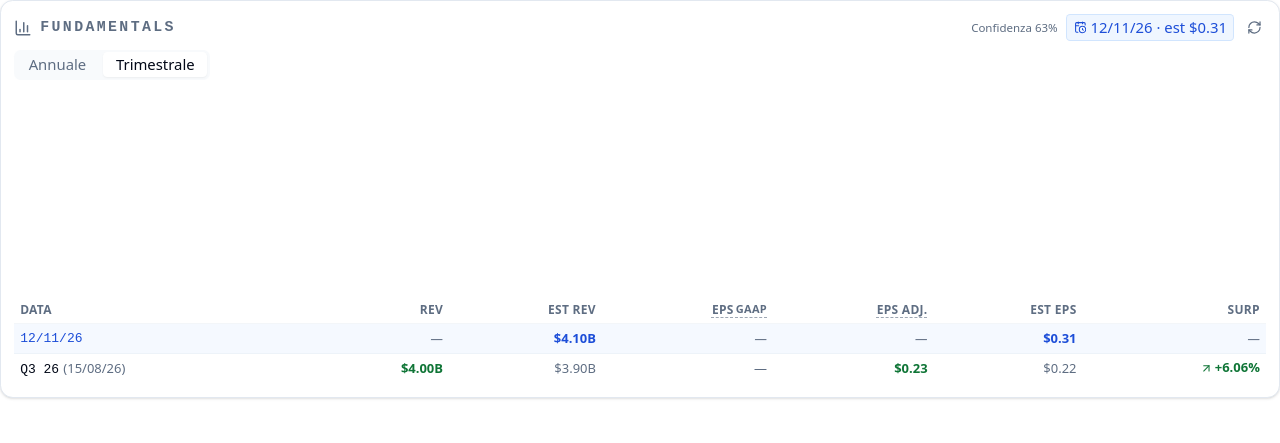
Scenario: FundamentalsCard — la valuta dei rendiconti › ricavi, utile, EPS di bilancio ed EPS del calendario: tutti in dollari
// Annuale: [FY, Rev, YoY, Net Inc, EPS GAAP, EPS adj., Est EPS, Surp].
Click the button "Annuale" at (57, 65), box left=16, top=52, right=99, bottom=77
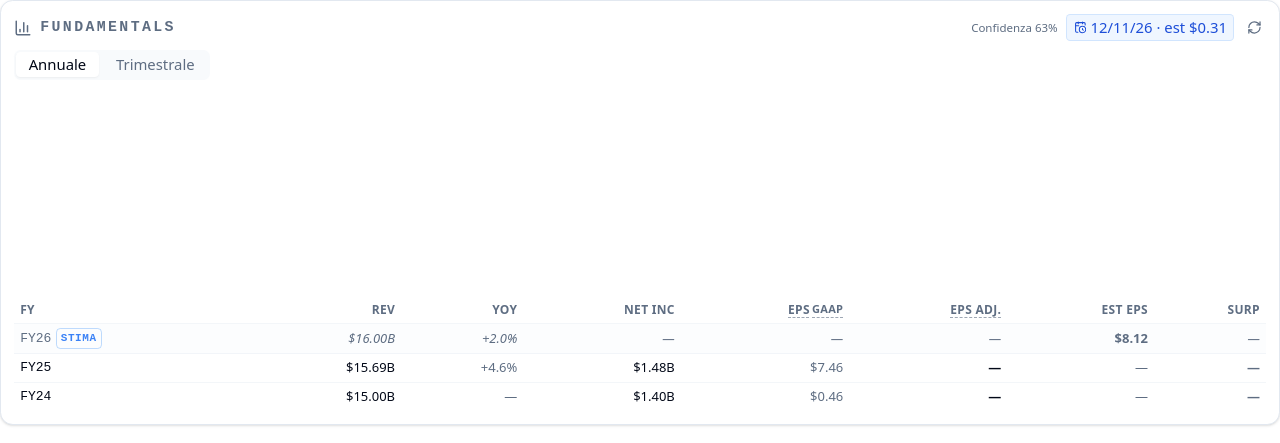
Expected: the cell "$16.00B" is shown, left=248, top=324, right=401, bottom=354
Expected: the cell "$15.69B" is shown, left=248, top=354, right=401, bottom=382
Expected: the cell "$1.48B" is shown, left=524, top=354, right=681, bottom=382
